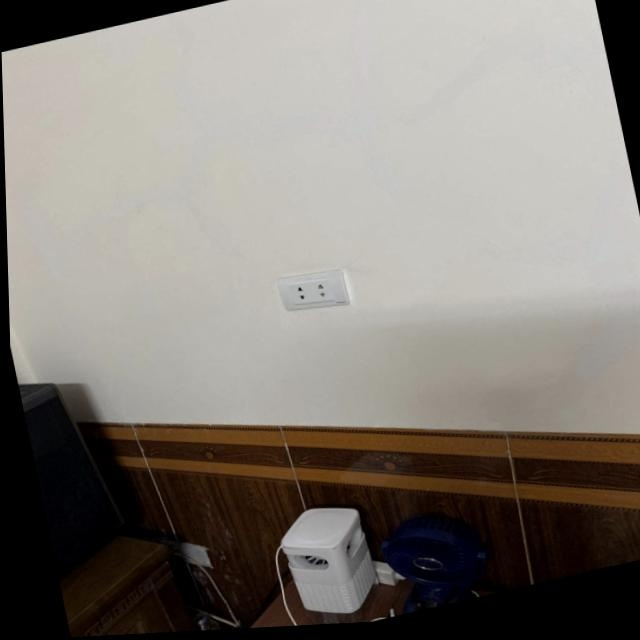outlet: (275, 262, 351, 318)
